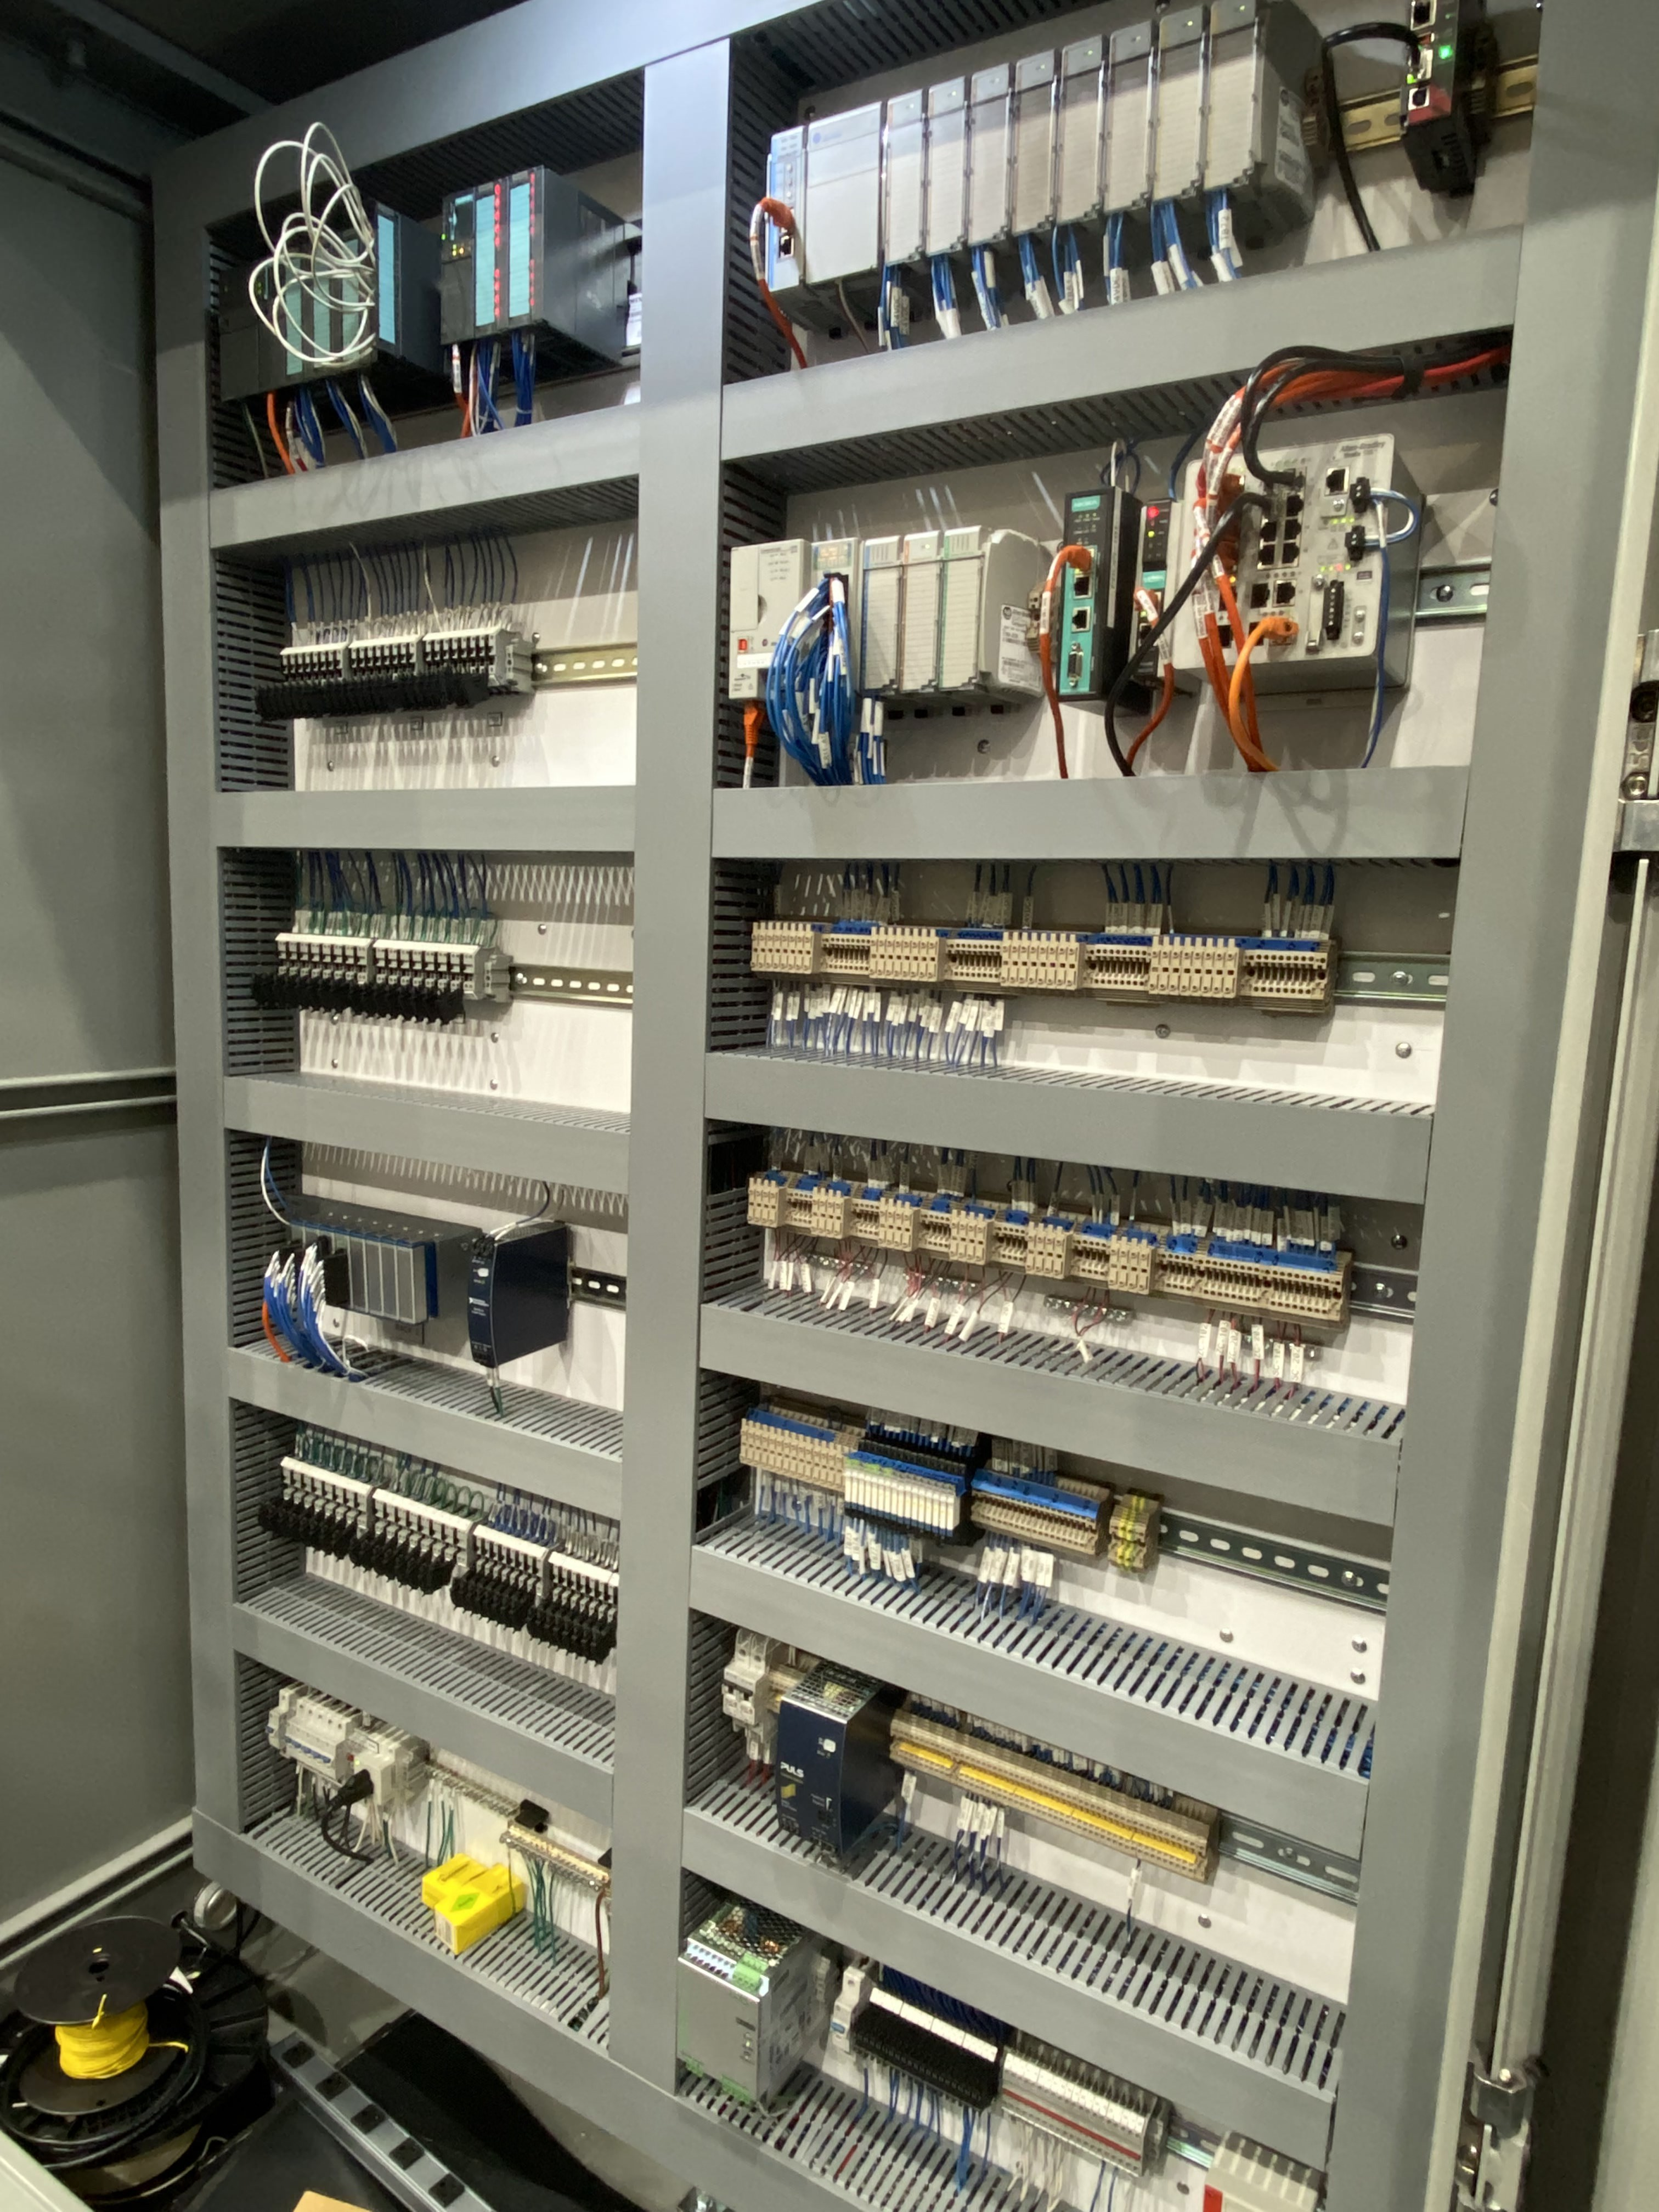AllenBradley: (727, 533, 810, 704)
Siemens: (251, 244, 293, 397)
